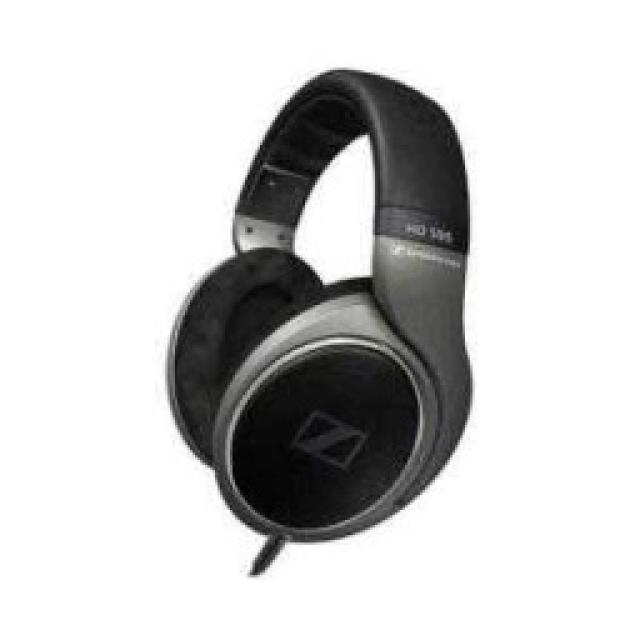headphones: (162, 65, 472, 573)
